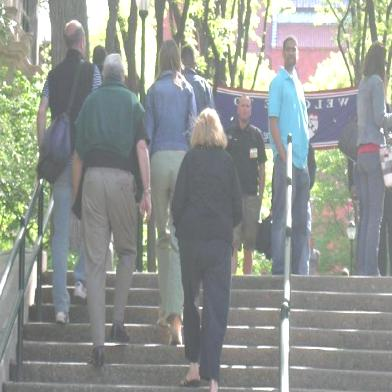ped: (73, 55, 152, 370), (173, 109, 245, 392), (38, 22, 103, 323), (147, 39, 199, 344), (271, 38, 313, 274), (359, 40, 392, 277)
